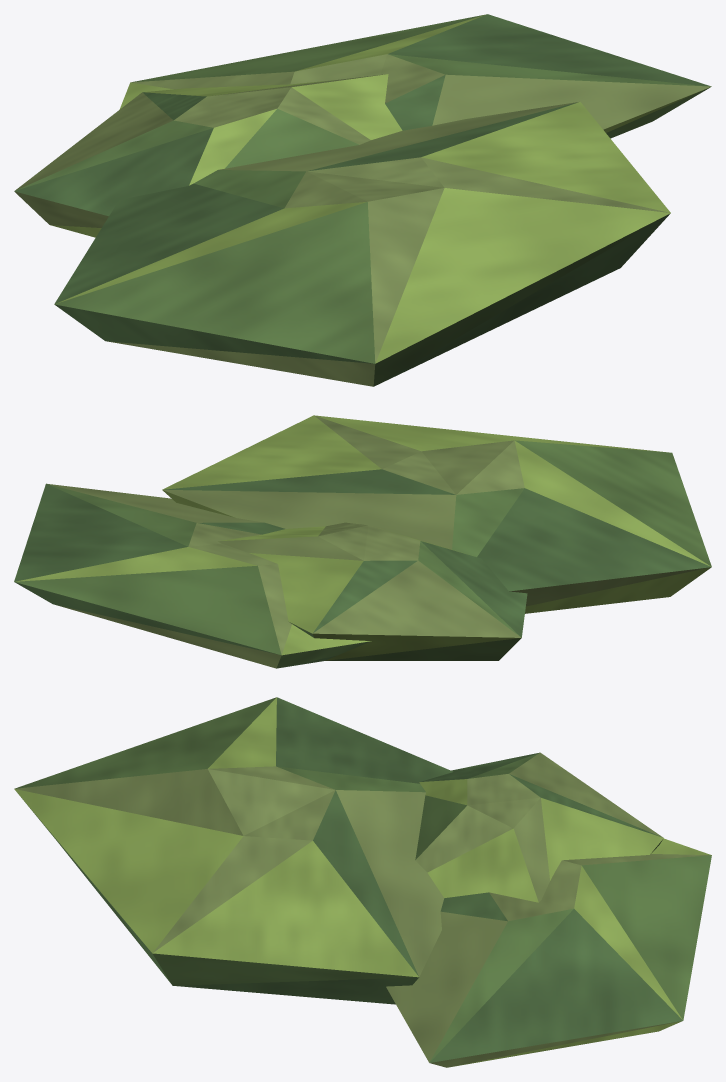
File: moss_patch_02.fbx
3 renders of one model, top to bottom at view 1: azimuth 30°, elevation 25°; view 2: azimuth 150°, elevation 25°; view 3: azimuth 270°, elevation 25°, orthographic. The views are drawn at different scales.
Visible parts, largest first — view 1: moss_patch_02; view 2: moss_patch_02; view 3: moss_patch_02.
Boxes of the visible parts, left/top/right/bottom form: moss_patch_02: left=14, top=14, right=711, bottom=386; moss_patch_02: left=14, top=415, right=711, bottom=668; moss_patch_02: left=14, top=697, right=711, bottom=1067.
Bounding box in the file's own units: 129 × 18.5 × 110.
Materials: 1 (1 with a texture image).
